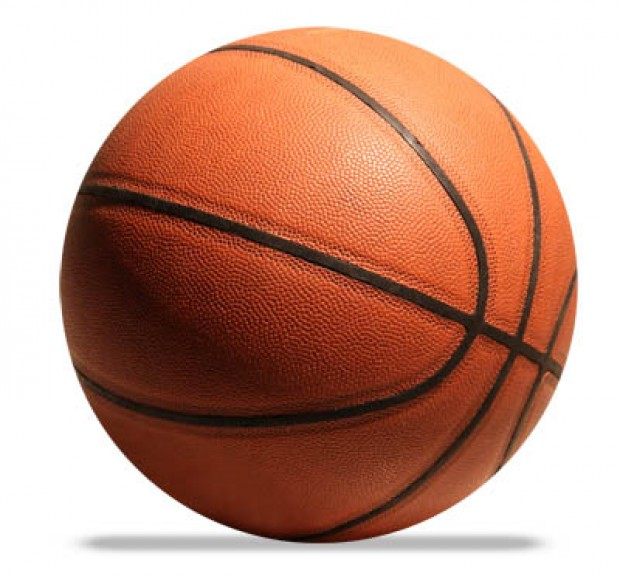basketball: (61, 27, 578, 546)
